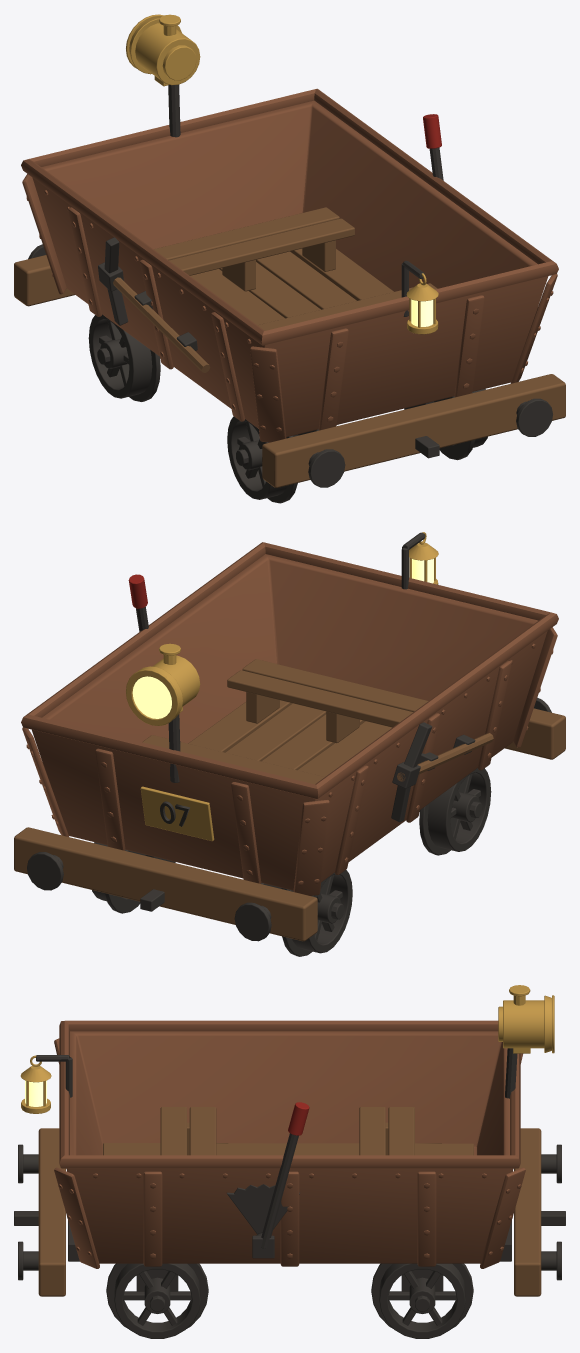
Rendered from LastCartDown_Cart.glb.
3 views of the same model, one above another, from view 1: azimuth 30°, elevation 25°; view 2: azimuth 150°, elevation 25°; view 3: azimuth 270°, elevation 25° (orthographic). The views are drawn at different scales.
Parts seen in each view (by area): view 1: CartBody, Bumpers, CartBenches, CartFloor, Wheel_FL, CartChassis, Headlamp, Wheel_BL, PickHead, PickHandle, Lantern; view 2: CartBody, Bumpers, CartBenches, CartFloor, Wheel_BL, CartChassis, Wheel_FL, Headlamp, NumberPlate, PickHead, HeadlampLens, PickHandle (+3 smaller); view 3: CartBody, Bumpers, CartChassis, CartBenches, Wheel_FR, Wheel_BR, CartFloor, Headlamp, BrakeLever, Lantern, BrakeGrip, LanternGlass.
Part boxes in pixels (x1,y1,x2,y2): CartBody: [21, 88, 558, 442]; Bumpers: [14, 255, 565, 487]; CartBenches: [154, 207, 437, 330]; CartFloor: [190, 248, 393, 325]; Wheel_FL: [88, 314, 160, 401]; CartChassis: [28, 84, 552, 487]; Headlamp: [126, 14, 200, 86]; Wheel_BL: [227, 416, 297, 503]; PickHead: [98, 237, 197, 350]; PickHandle: [113, 277, 210, 372]; Lantern: [406, 273, 438, 334]; CartBody: [21, 542, 558, 895]; Bumpers: [14, 708, 565, 941]; CartBenches: [142, 659, 428, 784]; CartFloor: [188, 700, 391, 776]; Wheel_BL: [419, 768, 491, 855]; CartChassis: [27, 532, 551, 941]; Wheel_FL: [282, 870, 352, 956]; Headlamp: [126, 643, 200, 725]; NumberPlate: [140, 786, 214, 841]; PickHead: [391, 722, 475, 822]; HeadlampLens: [132, 676, 171, 718]; PickHandle: [397, 733, 493, 781]; CartBody: [54, 1020, 525, 1268]; Bumpers: [38, 1128, 541, 1296]; CartChassis: [14, 1048, 565, 1291]; CartBenches: [160, 1107, 414, 1155]; Wheel_FR: [371, 1263, 473, 1338]; Wheel_BR: [106, 1263, 208, 1338]; CartFloor: [103, 1143, 473, 1155]; Headlamp: [498, 985, 554, 1053]; BrakeLever: [252, 1133, 298, 1258]; Lantern: [20, 1055, 51, 1113]; BrakeGrip: [288, 1102, 309, 1135]; LanternGlass: [25, 1080, 46, 1106].
Size of the model in its own units: 7.89 by 7.65 by 12.5.
